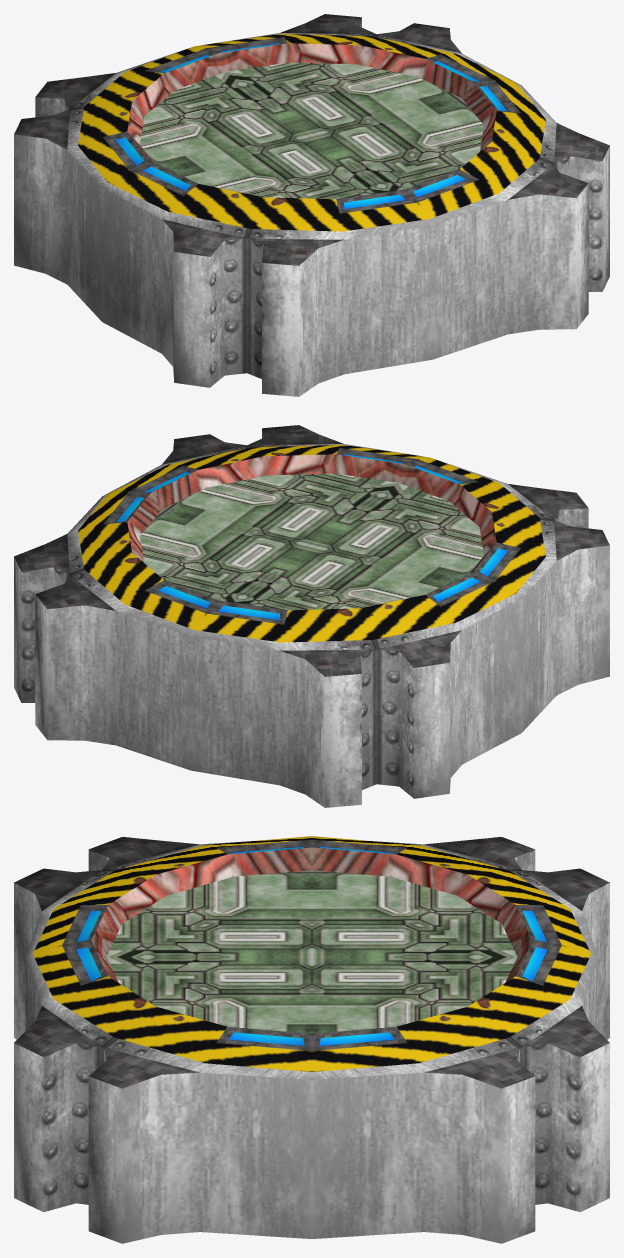
File: mountMedium.obj
3 views of the same model, one above another, from view 1: azimuth 30°, elevation 25°; view 2: azimuth 150°, elevation 25°; view 3: azimuth 270°, elevation 25° (orthographic). The views are drawn at different scales.
Visible parts, largest first — view 1: Cylinder.000; view 2: Cylinder.000; view 3: Cylinder.000.
Boxes of the visible parts, x1=… form: Cylinder.000: x1=14, y1=14, x2=609, y2=396; Cylinder.000: x1=14, y1=425, x2=609, y2=807; Cylinder.000: x1=14, y1=836, x2=609, y2=1243.
Bounding box in the file's own units: 1.56 × 0.5133 × 1.56.
1 material, 1 textured.
